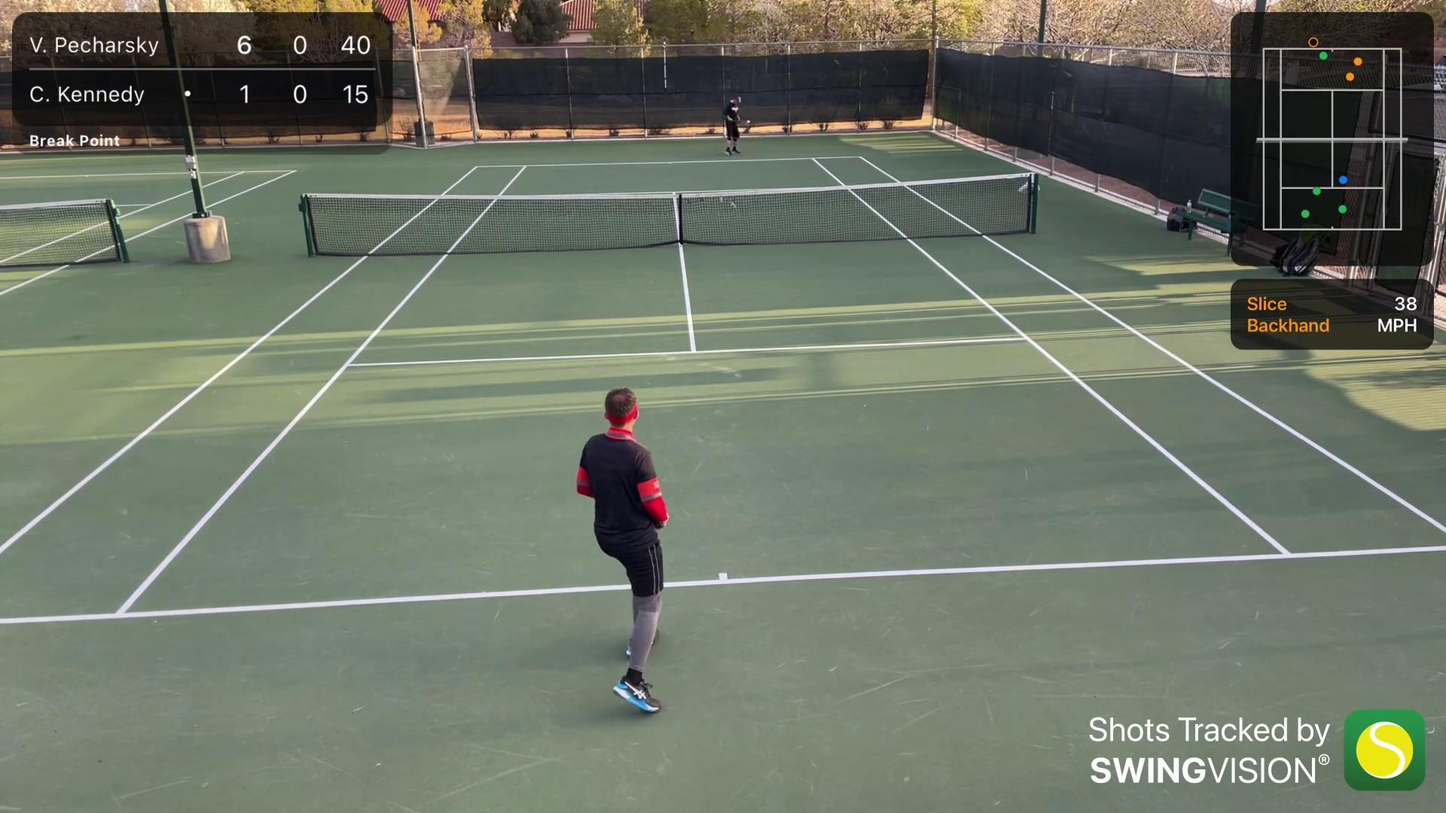ball: (746, 120, 751, 124)
